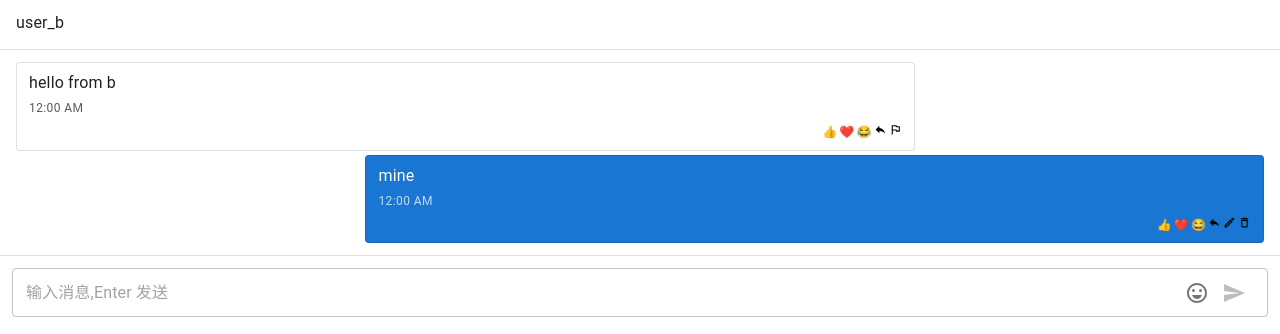
Test: ChatWindow C8 › deletes an own message after confirmation
Click the button with test id "delete-m2": (1244, 225) top-left (1238, 216), bottom-right (1251, 234)
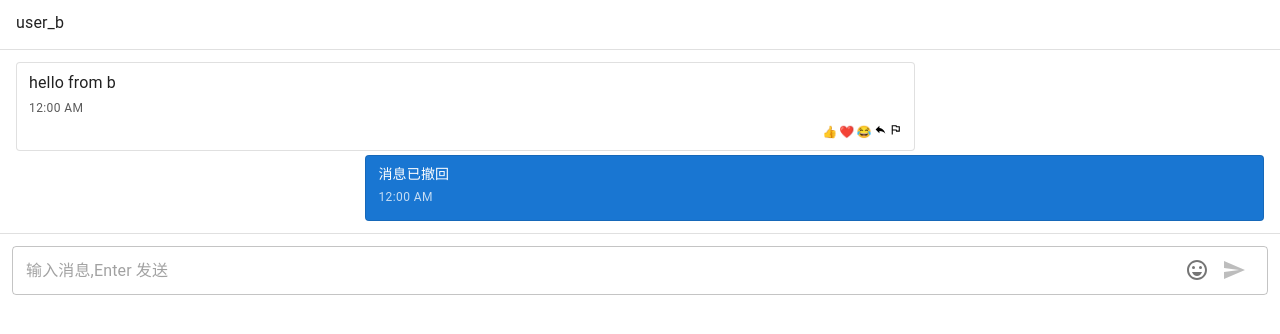
Expected: the text "消息已撤回" is shown, top-left (378, 166), bottom-right (449, 182)
